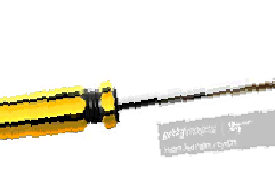Screwdriver: (1, 79, 275, 144)
